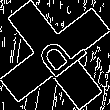P_SW: (24, 25, 86, 85)
